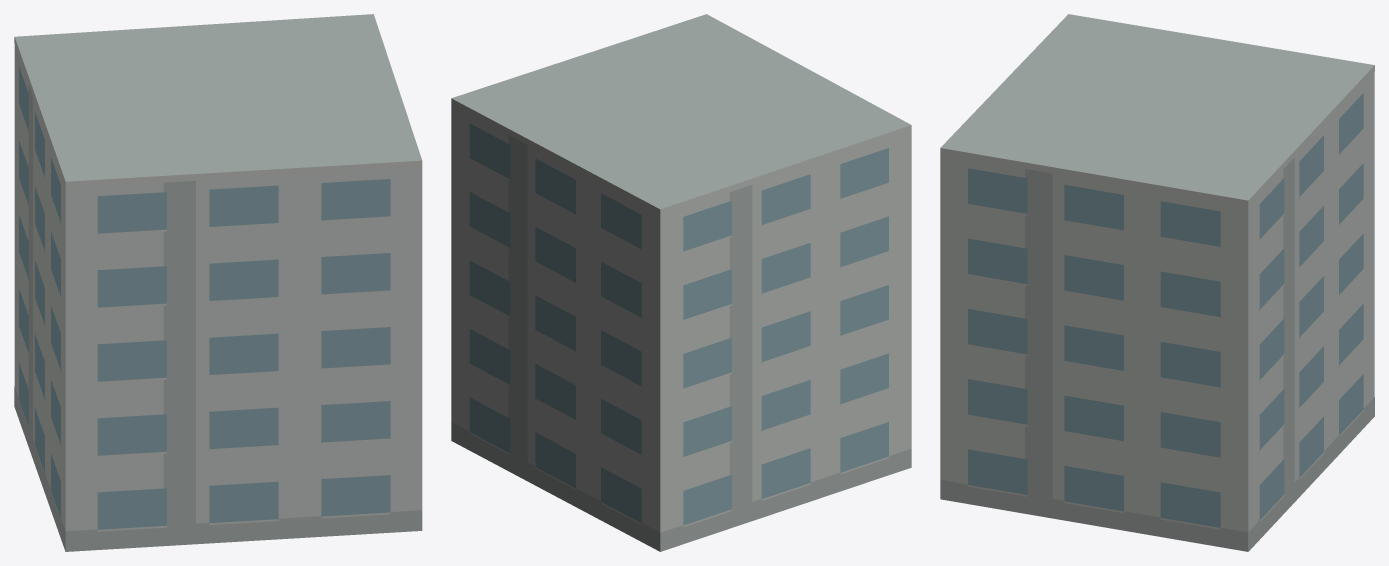
Rendered from survey-upis-32653931.glb.
3 views of the same model, side by side, from view 1: azimuth 30°, elevation 25°; view 2: azimuth 150°, elevation 25°; view 3: azimuth 270°, elevation 25° (orthographic). The views are drawn at different scales.
Parts seen in each view (by area): view 1: survey-upis-32653931.tmp; view 2: survey-upis-32653931.tmp; view 3: survey-upis-32653931.tmp.
Boxes of the visible parts, <box> form: survey-upis-32653931.tmp: <box>14,14,422,551</box>; survey-upis-32653931.tmp: <box>451,14,911,551</box>; survey-upis-32653931.tmp: <box>940,14,1374,551</box>.
Size of the model in its own units: 15.27 by 13.4 by 15.03.
